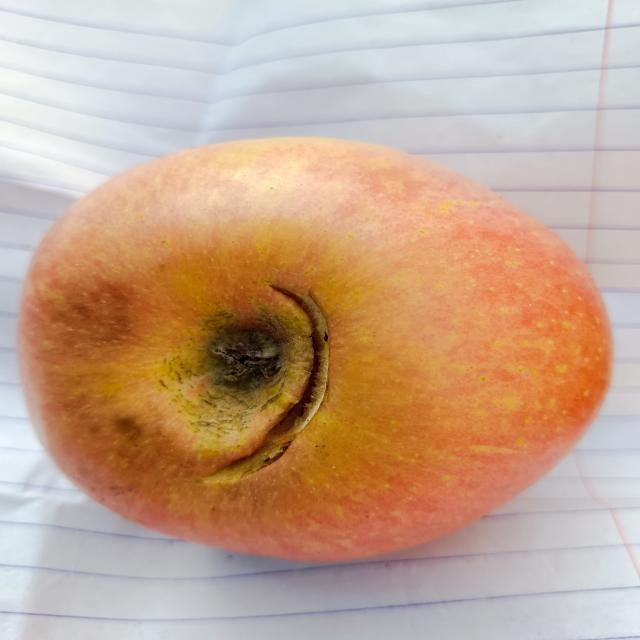Fresh Apple: (22, 153, 600, 540)
